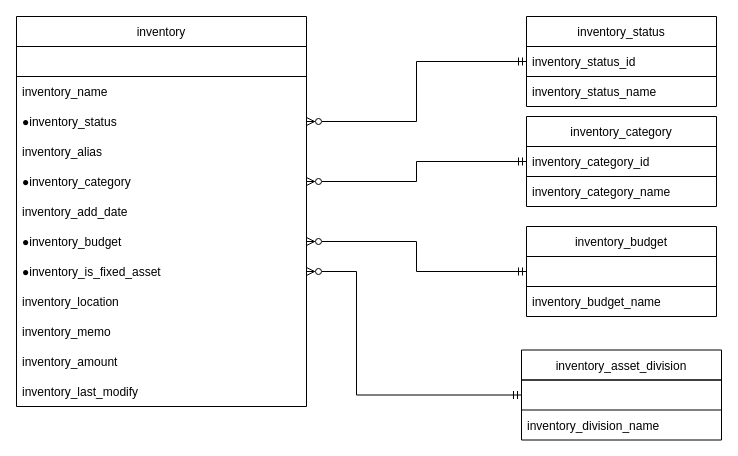
Some shapes in this 738 by 456 pixel diagram are drawn without their labels. The shapes that lost their labels are listed below. From the top down, each one's centre as x and y in pixels, then its label:
At (x=161, y=61): "inventory_id".
At (x=621, y=271): "inventory_budget_id".
At (x=621, y=394): "inventory_division".
